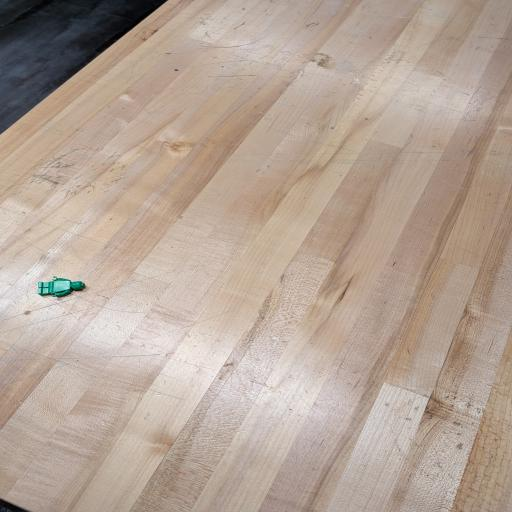Minifig: (38, 278, 84, 296)
